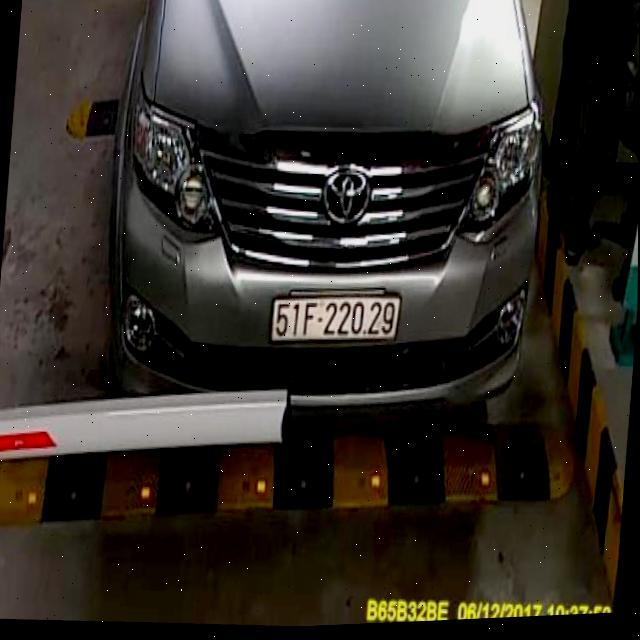car: (92, 0, 558, 454)
plate: (263, 282, 406, 352)
